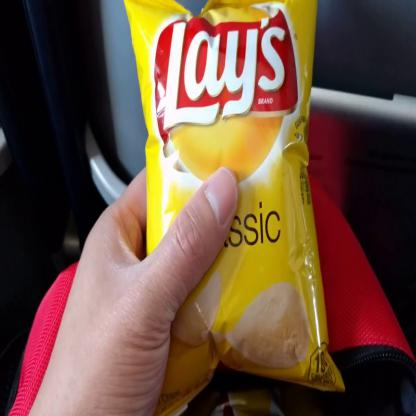potatochip: (124, 0, 347, 415)
